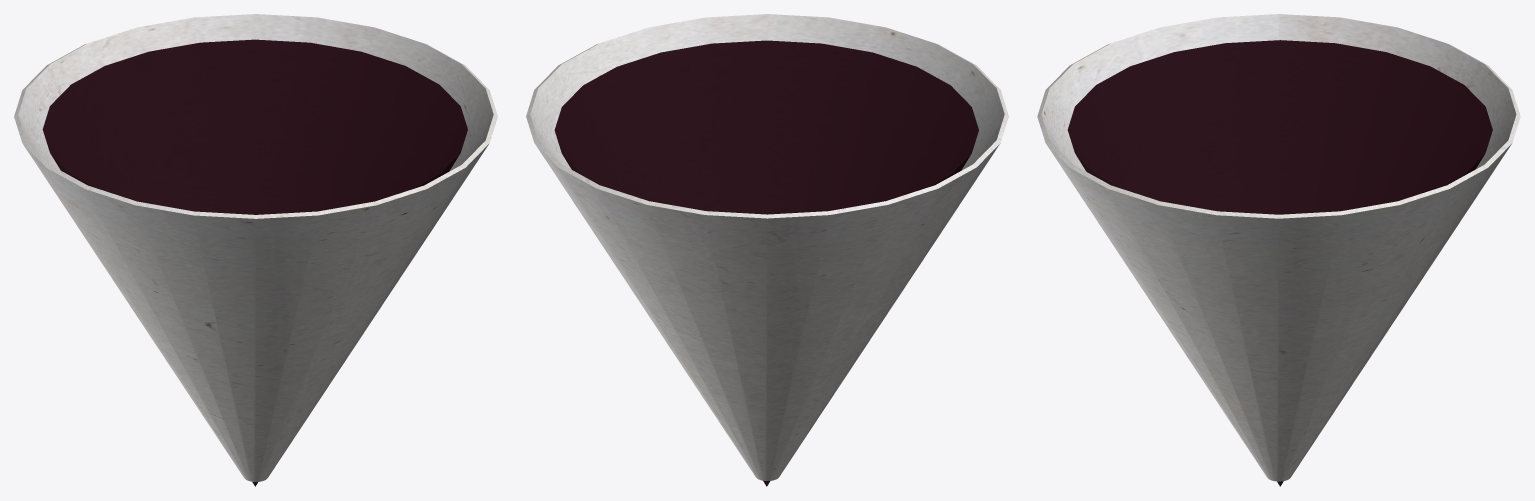
Rendered from SM_漏斗滤纸_002.FBX.
3 renders of one model, left to right at view 1: azimuth 30°, elevation 25°; view 2: azimuth 150°, elevation 25°; view 3: azimuth 270°, elevation 25°, orthographic.
Parts seen in each view (by area): view 1: SM_漏斗滤纸_002, SM_漏斗滤纸液体_002; view 2: SM_漏斗滤纸_002, SM_漏斗滤纸液体_002; view 3: SM_漏斗滤纸_002, SM_漏斗滤纸液体_002.
Part boxes in pixels (x1,y1,x2,y2): SM_漏斗滤纸_002: (14,14,497,481); SM_漏斗滤纸液体_002: (42,39,467,486); SM_漏斗滤纸_002: (526,14,1008,480); SM_漏斗滤纸液体_002: (554,40,978,486); SM_漏斗滤纸_002: (1037,14,1520,481); SM_漏斗滤纸液体_002: (1067,40,1492,486).
Size of the model in its own units: 0.04 by 0.04 by 0.034.
